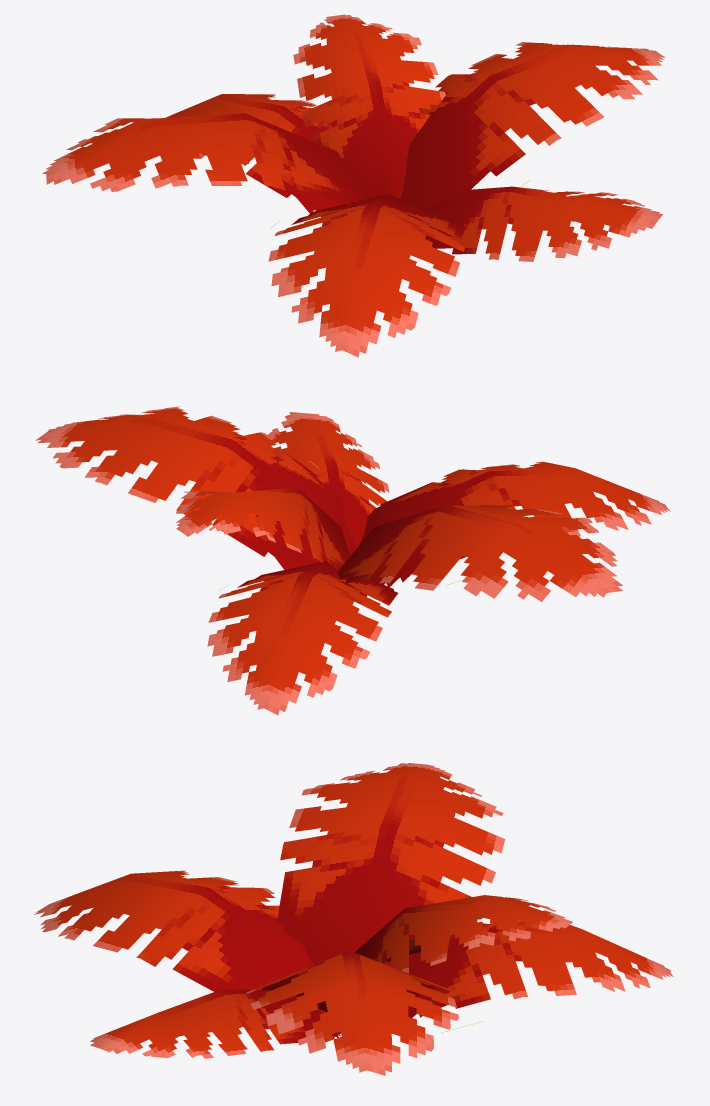
Rendered from SM_RedPlant.FBX.
3 renders of one model, top to bottom at view 1: azimuth 30°, elevation 25°; view 2: azimuth 150°, elevation 25°; view 3: azimuth 270°, elevation 25°, orthographic. The views are drawn at different scales.
Visible parts, largest first — view 1: RedPlant; view 2: RedPlant; view 3: RedPlant.
Boxes of the visible parts, x1,y1,x2,y2 form: RedPlant: (42, 14, 665, 357); RedPlant: (35, 406, 670, 715); RedPlant: (34, 763, 673, 1075).
Bounding box in the file's own units: 58.17 × 12.63 × 51.19.
